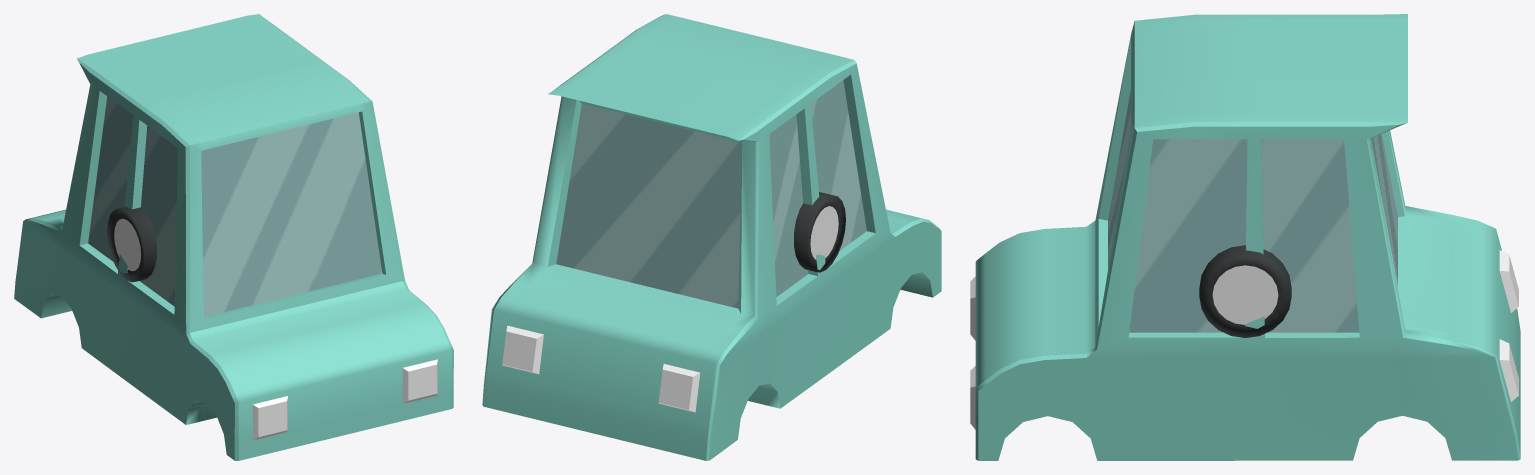
Rendered from car_5_T.fbx.
3 views of the same model, side by side, from view 1: azimuth 30°, elevation 25°; view 2: azimuth 150°, elevation 25°; view 3: azimuth 270°, elevation 25° (orthographic). The views are drawn at different scales.
Visible parts, largest first — view 1: car_5_chasis_T, car_5_back_wheel_T, car_5_right_wheel_T; view 2: car_5_chasis_T, car_5_back_wheel_T, car_5_right_wheel_T; view 3: car_5_chasis_T, car_5_left_wheel_T.
Boxes of the visible parts, box(x1,y1,x2,y2) form: car_5_chasis_T: box(14, 14, 453, 460); car_5_back_wheel_T: box(107, 207, 150, 282); car_5_right_wheel_T: box(122, 209, 156, 280); car_5_chasis_T: box(482, 14, 941, 460); car_5_back_wheel_T: box(794, 195, 845, 272); car_5_right_wheel_T: box(794, 192, 833, 268); car_5_chasis_T: box(970, 14, 1520, 460); car_5_left_wheel_T: box(1199, 245, 1291, 337).
Bounding box in the file's own units: 103 × 121 × 183.
